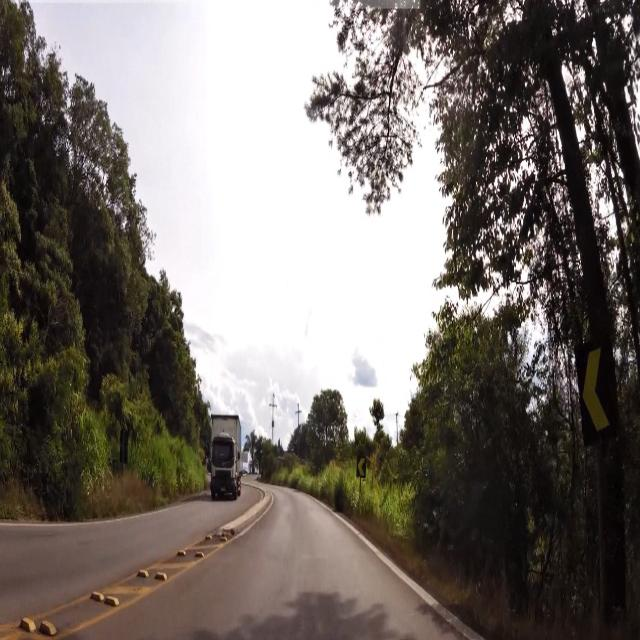Del: (574, 342, 616, 436), (356, 456, 367, 476)
